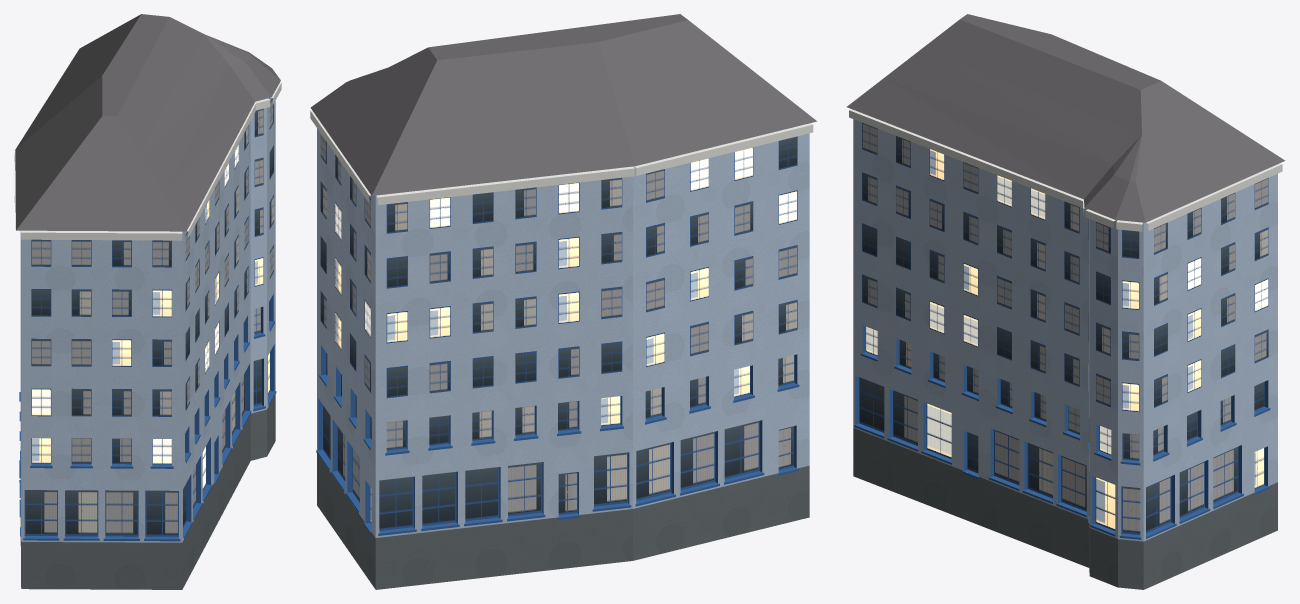
Rendered from z3c_zy_endi.glb.
3 views of the same model, side by side, from view 1: azimuth 30°, elevation 25°; view 2: azimuth 150°, elevation 25°; view 3: azimuth 270°, elevation 25° (orthographic). The views are drawn at different scales.
Visible parts, largest first — view 1: z3c_zy_endi; view 2: z3c_zy_endi; view 3: z3c_zy_endi.
Boxes of the visible parts, x1,y1,x2,y2 form: z3c_zy_endi: (14,14,281,589); z3c_zy_endi: (310,14,817,589); z3c_zy_endi: (847,14,1285,589).
Bounding box in the file's own units: 23.86 × 27.93 × 24.69.
Materials: 3 (3 with a texture image).
